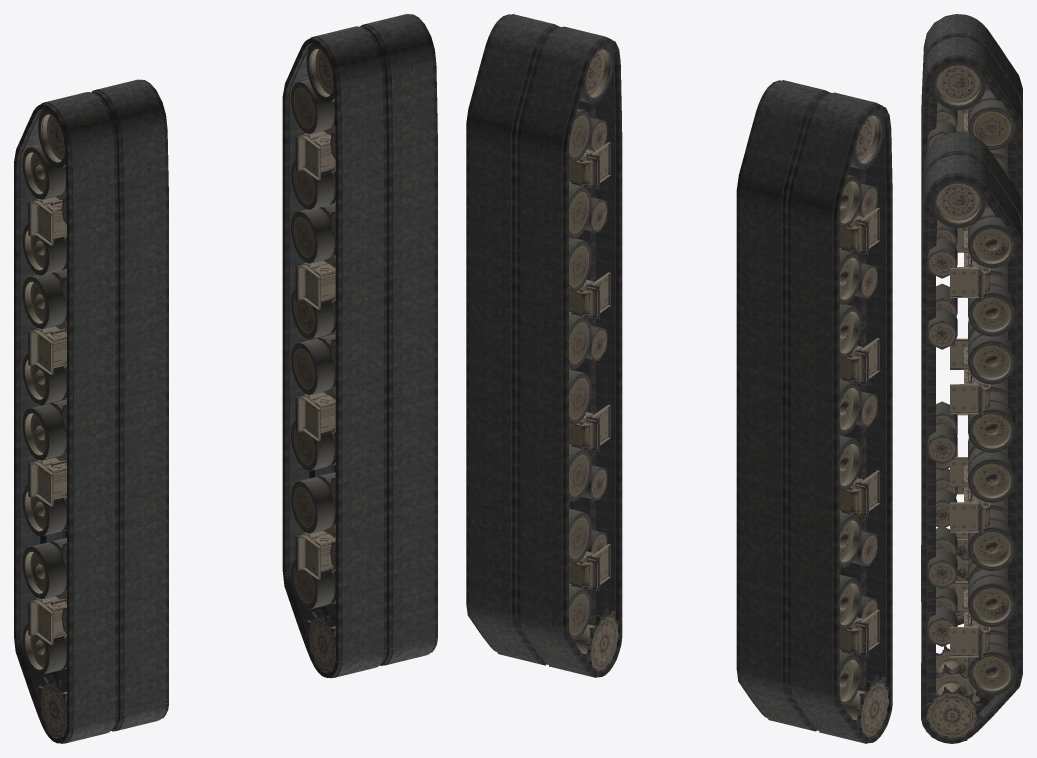
Rendered from Chassis.glb.
The picture shows the model from 3 angles, left to right: view 1: azimuth 30°, elevation 25°; view 2: azimuth 150°, elevation 25°; view 3: azimuth 270°, elevation 25°; orthographic projection. The views are drawn at different scales.
Visible parts, largest first — view 1: set_2_group_0, set_3_group_0, set_0_group_0, set_1_group_0; view 2: set_3_group_0, set_2_group_0, set_0_group_0, set_1_group_0; view 3: set_0_group_0, set_2_group_0, set_1_group_0, set_3_group_0.
Part boxes in pixels (bbox=[...]): set_2_group_0: bbox=[282, 14, 437, 677]; set_3_group_0: bbox=[14, 79, 168, 743]; set_0_group_0: bbox=[291, 43, 437, 678]; set_1_group_0: bbox=[22, 109, 168, 743]; set_3_group_0: bbox=[736, 80, 892, 743]; set_2_group_0: bbox=[466, 14, 622, 677]; set_0_group_0: bbox=[492, 44, 618, 677]; set_1_group_0: bbox=[762, 110, 888, 743]; set_0_group_0: bbox=[921, 179, 1016, 740]; set_2_group_0: bbox=[921, 132, 1022, 743]; set_1_group_0: bbox=[921, 61, 1015, 619]; set_3_group_0: bbox=[921, 14, 1022, 625].
Bounding box in the file's own units: 4.53 × 7.15 × 1.16.
4 materials, 4 textured.
